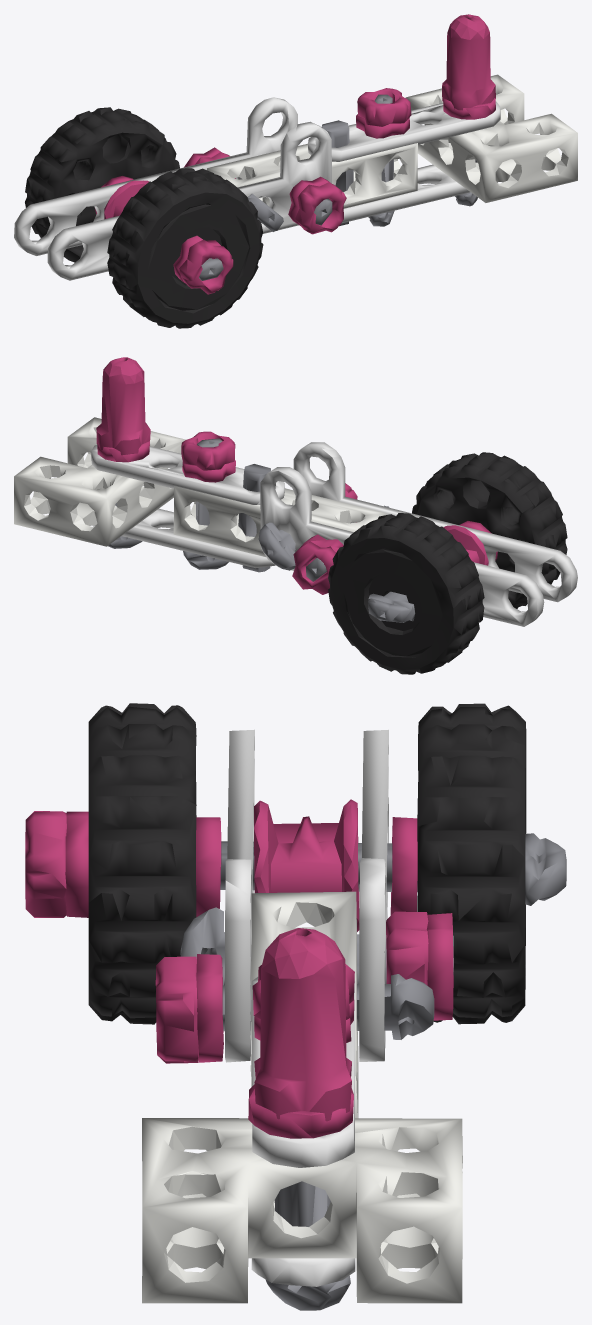
The model's file is Milestone4.fbx.
3 views of the same model, one above another, from view 1: azimuth 30°, elevation 25°; view 2: azimuth 150°, elevation 25°; view 3: azimuth 270°, elevation 25° (orthographic). The views are drawn at different scales.
Parts seen in each view (by area): view 1: Brace STR STD ERR BU04x01x00.25 - SPN-BRC-0003 (stemfie.org); view 2: Brace STR STD ERR BU04x01x00.25 - SPN-BRC-0003 (stemfie.org); view 3: Brace STR STD ERR BU04x01x00.25 - SPN-BRC-0003 (stemfie.org).
Part boxes in pixels (left/top/right/bottom): Brace STR STD ERR BU04x01x00.25 - SPN-BRC-0003 (stemfie.org): left=14, top=14, right=577, bottom=328; Brace STR STD ERR BU04x01x00.25 - SPN-BRC-0003 (stemfie.org): left=14, top=357, right=577, bottom=674; Brace STR STD ERR BU04x01x00.25 - SPN-BRC-0003 (stemfie.org): left=25, top=703, right=566, bottom=1310.
Size of the model in its own units: 13552 by 5048 by 6316.
